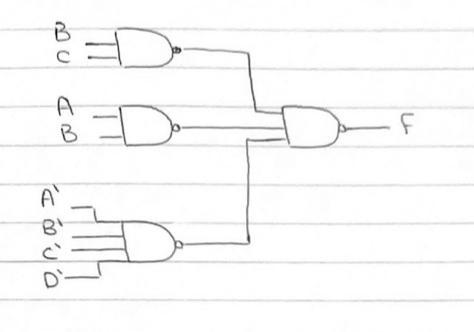NAND: (274, 92, 353, 159), (106, 18, 193, 76), (112, 210, 191, 272), (112, 94, 189, 151)
